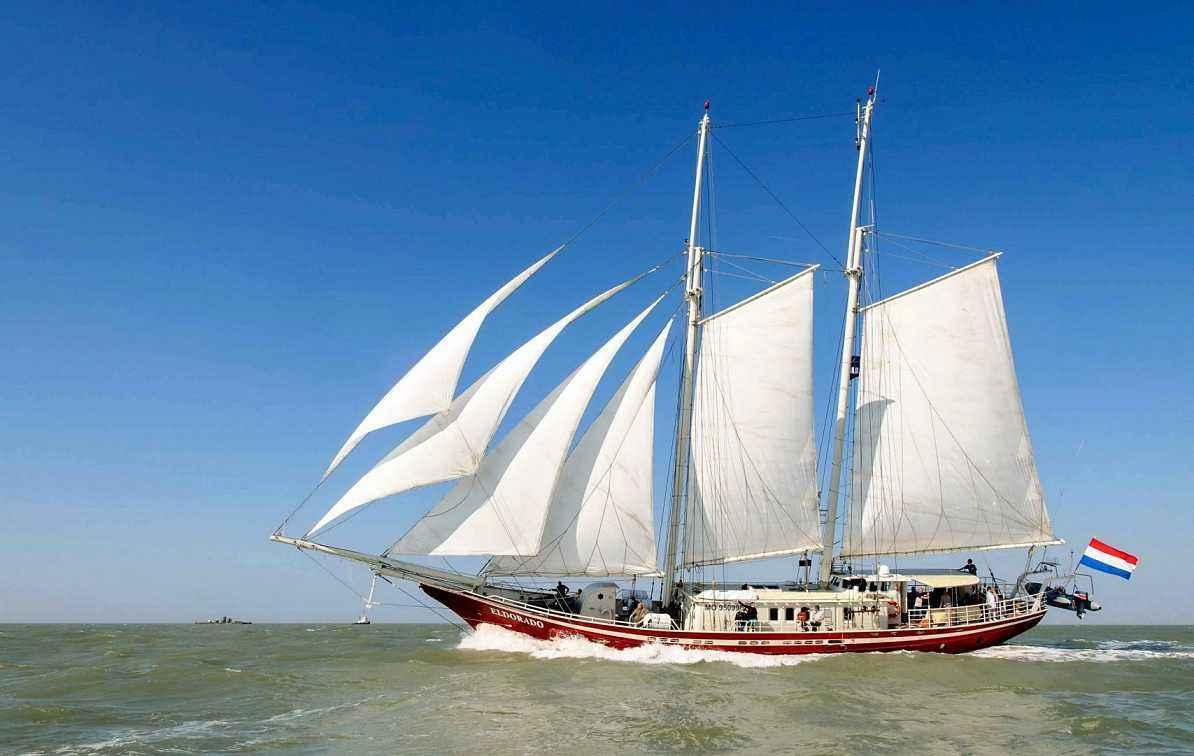fanchuan: (262, 76, 1132, 659)
